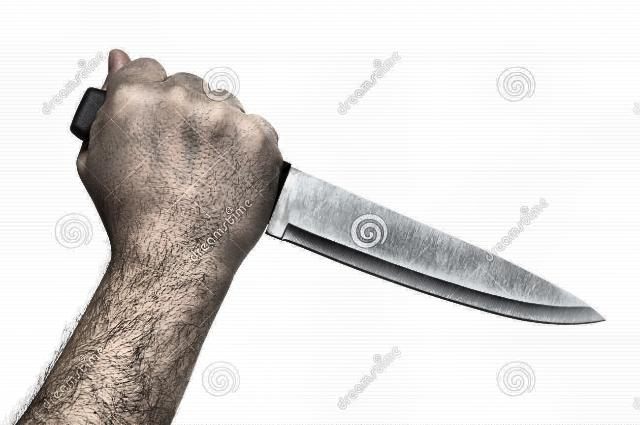knife: (174, 66, 616, 336)
